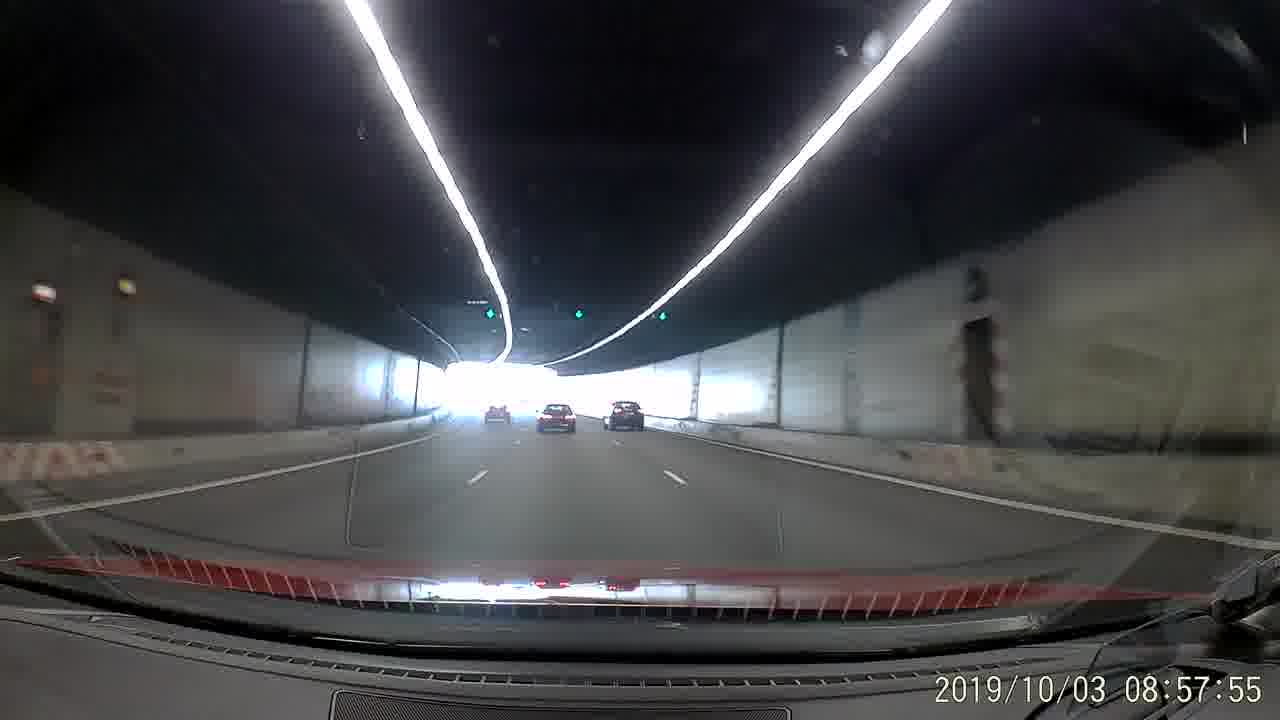car: (599, 400, 646, 434), (532, 398, 575, 434), (482, 401, 513, 426)
